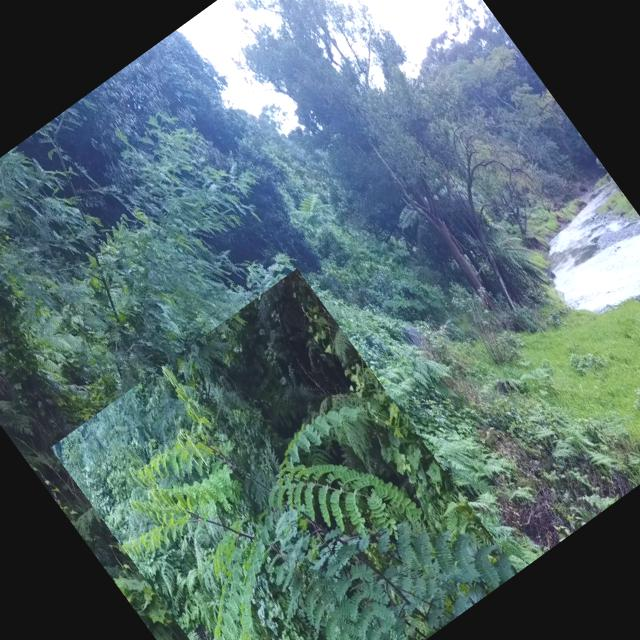Mysore-Thorn-Weed: (50, 268, 518, 640)
